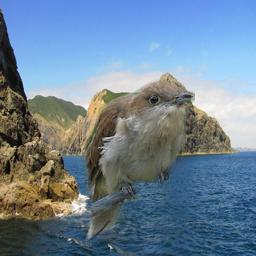Cuckoo: (81, 79, 195, 242)
